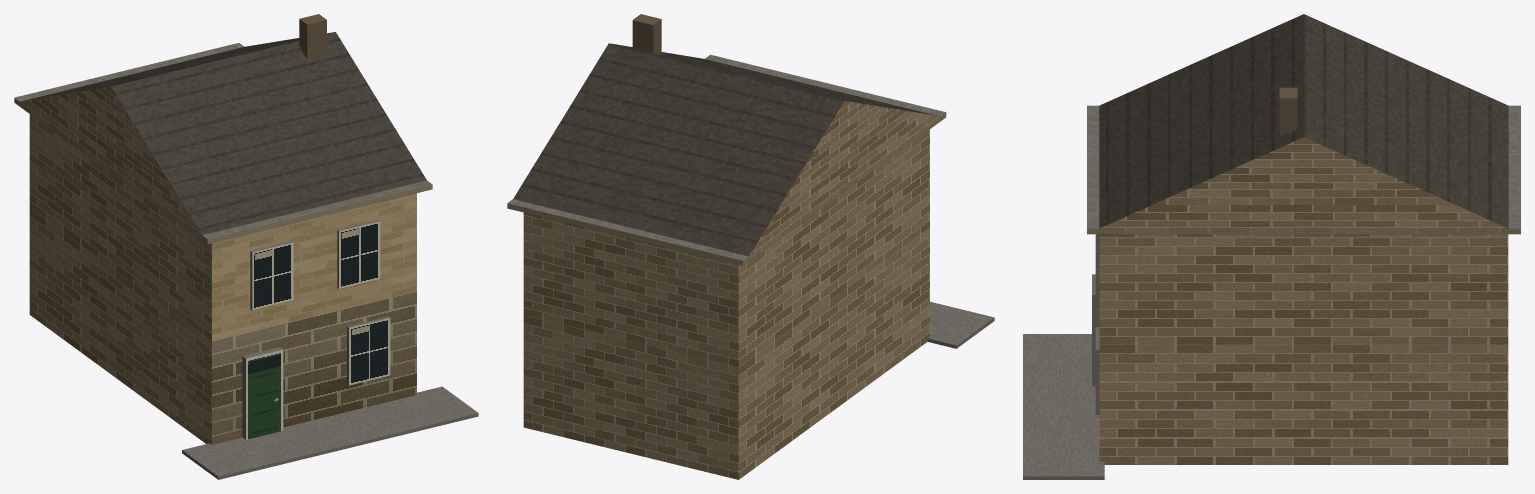
Rendered from building_terrace_yellowbrick_grubby.glb.
3 renders of one model, left to right at view 1: azimuth 30°, elevation 25°; view 2: azimuth 150°, elevation 25°; view 3: azimuth 270°, elevation 25°, orthographic. The views are drawn at different scales.
Parts seen in each view (by area): view 1: Building_Terrace_yellowbrick_grubby; view 2: Building_Terrace_yellowbrick_grubby; view 3: Building_Terrace_yellowbrick_grubby.
Part boxes in pixels (x1,y1,x2,y2): Building_Terrace_yellowbrick_grubby: (14, 14, 478, 479); Building_Terrace_yellowbrick_grubby: (507, 14, 994, 479); Building_Terrace_yellowbrick_grubby: (1023, 14, 1520, 479).
Size of the model in its own units: 6.6 by 7.8 by 9.75.
1 material, 1 textured.
